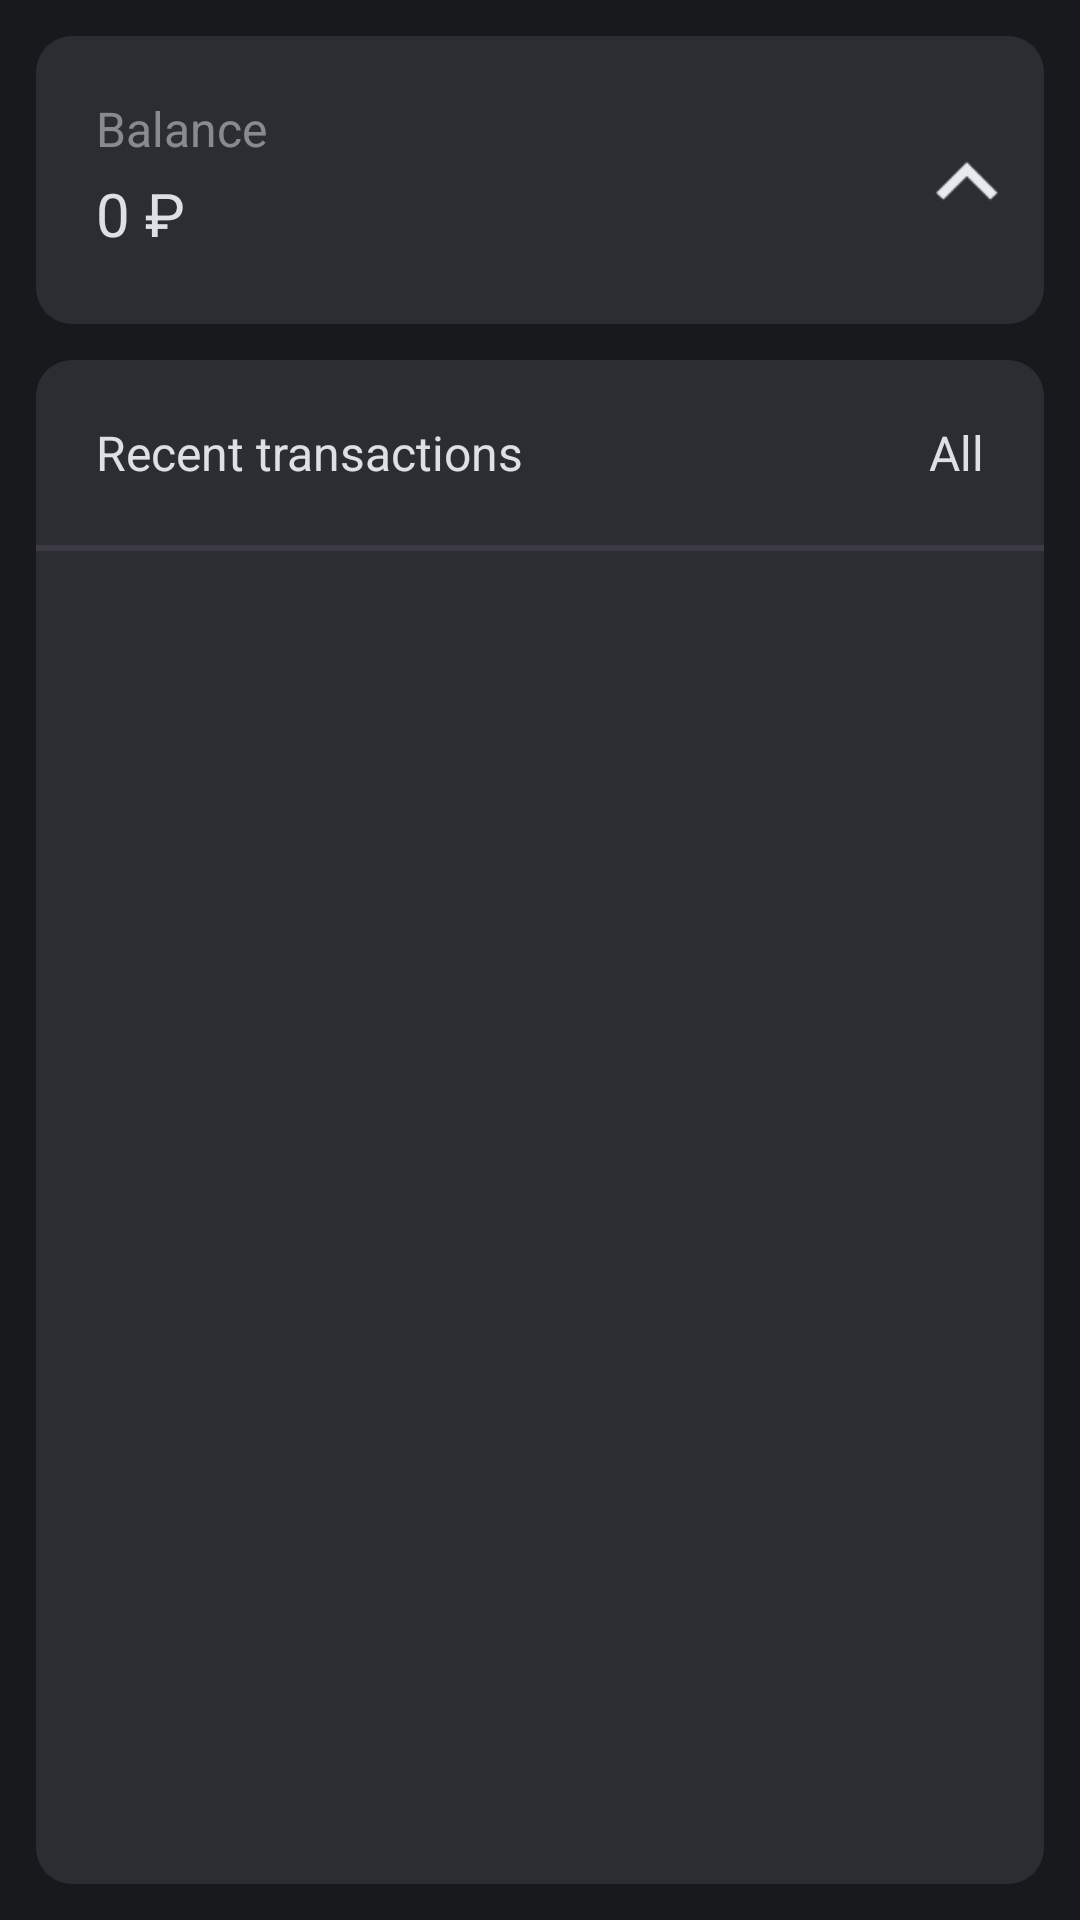

Icon click points for this 1080x1920 phone screenshot, format (x=x, y=y):
buttonup: (x=967, y=181)
